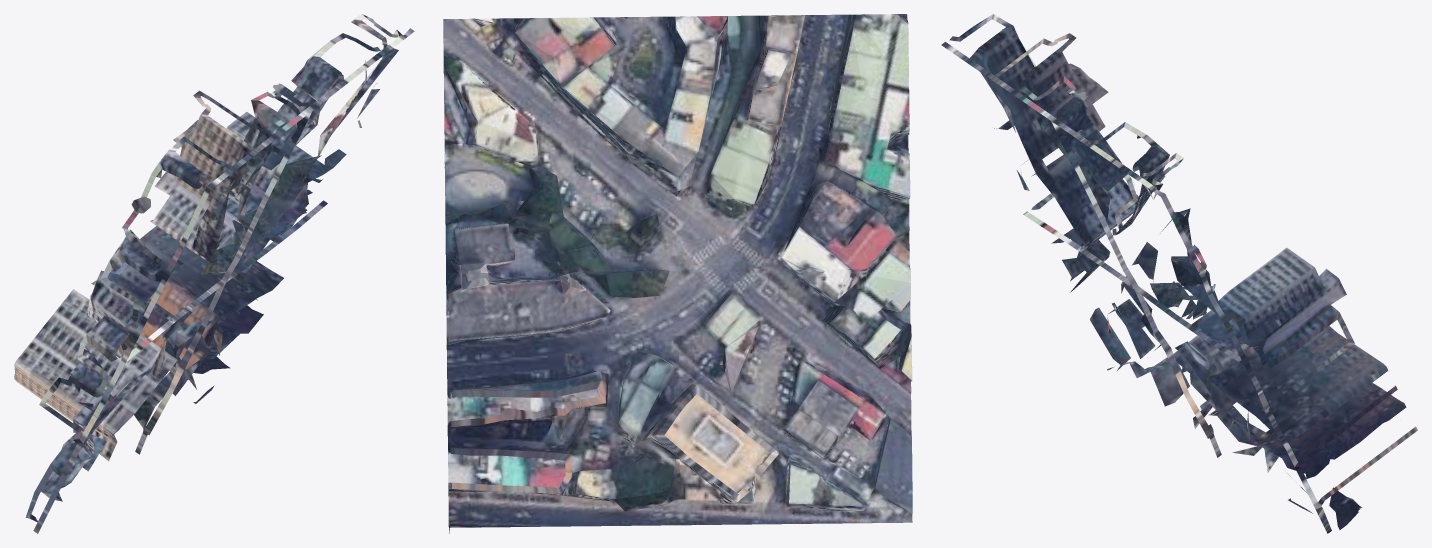
3 renders of one model, left to right at view 1: azimuth 30°, elevation 25°; view 2: azimuth 150°, elevation 25°; view 3: azimuth 270°, elevation 25°, orthographic. The views are drawn at different scales.
Bounding box in the file's own units: 154 × 151 × 157.
1 material, 1 textured.
